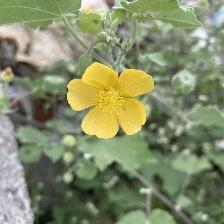indian mallow: (66, 62, 157, 143)
